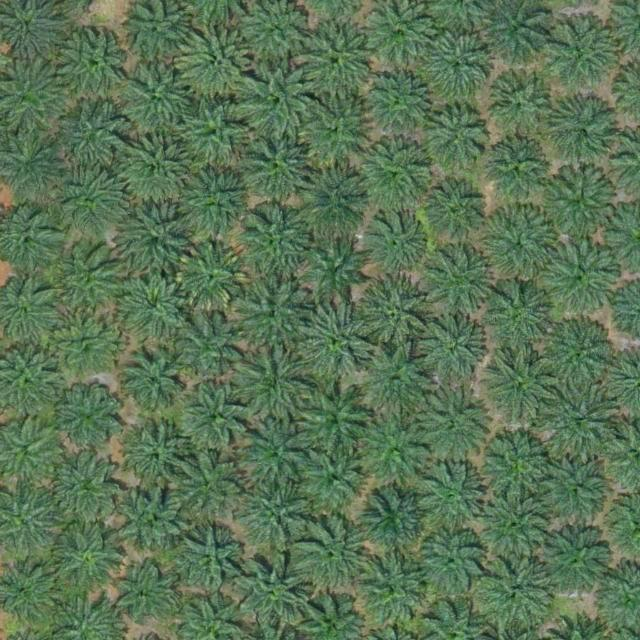Kelapa_Sawit: (56, 27, 134, 105), (185, 27, 263, 105), (541, 14, 619, 92), (539, 316, 617, 394), (538, 236, 616, 314), (539, 163, 617, 241), (481, 203, 559, 281), (480, 279, 558, 357), (480, 349, 558, 427), (418, 25, 496, 103), (360, 63, 438, 141), (352, 274, 430, 352), (357, 343, 435, 421), (292, 302, 370, 380), (295, 159, 373, 237), (292, 92, 370, 170), (296, 24, 374, 102), (237, 61, 315, 139), (235, 125, 313, 203), (235, 199, 313, 277), (233, 274, 311, 352), (227, 346, 305, 424), (237, 414, 315, 492), (236, 472, 314, 550), (233, 557, 311, 635), (293, 376, 371, 454), (296, 437, 374, 515), (293, 513, 371, 591), (351, 410, 429, 488), (410, 461, 488, 539), (411, 384, 489, 462), (478, 427, 556, 505), (478, 486, 556, 564), (478, 554, 556, 632), (180, 97, 250, 168), (180, 165, 250, 236), (119, 135, 189, 206), (121, 65, 191, 136), (171, 452, 241, 523), (359, 555, 429, 626), (545, 97, 615, 167), (484, 69, 554, 139), (414, 312, 484, 382), (424, 245, 494, 315), (419, 105, 489, 175), (360, 142, 430, 212), (176, 240, 246, 310), (175, 313, 245, 383), (117, 346, 187, 416), (117, 269, 187, 339), (121, 205, 191, 275), (54, 101, 124, 171), (53, 164, 123, 234), (52, 243, 122, 313), (48, 309, 118, 379), (180, 381, 250, 451), (54, 379, 124, 449), (122, 422, 192, 492), (51, 450, 121, 520), (51, 521, 121, 591), (112, 482, 182, 552), (172, 522, 242, 592), (360, 485, 430, 555), (416, 529, 486, 599), (538, 526, 608, 596), (539, 455, 609, 525), (547, 383, 617, 453), (484, 138, 546, 201), (424, 179, 486, 242), (365, 211, 427, 274), (112, 563, 174, 626), (304, 236, 366, 298)
